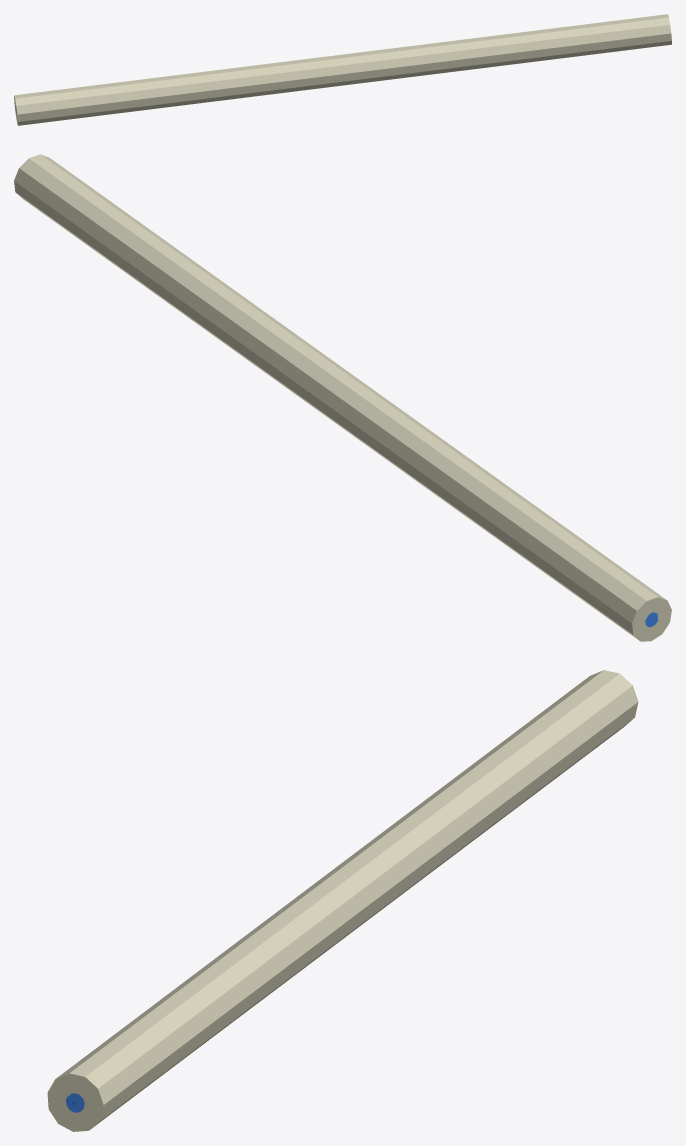
The model's file is tile_120.glb.
The picture shows the model from 3 angles, top to bottom: view 1: azimuth 30°, elevation 25°; view 2: azimuth 150°, elevation 25°; view 3: azimuth 270°, elevation 25°; orthographic projection. The views are drawn at different scales.
Bounding box in the file's own units: 4.93 × 0.707 × 2.37.
